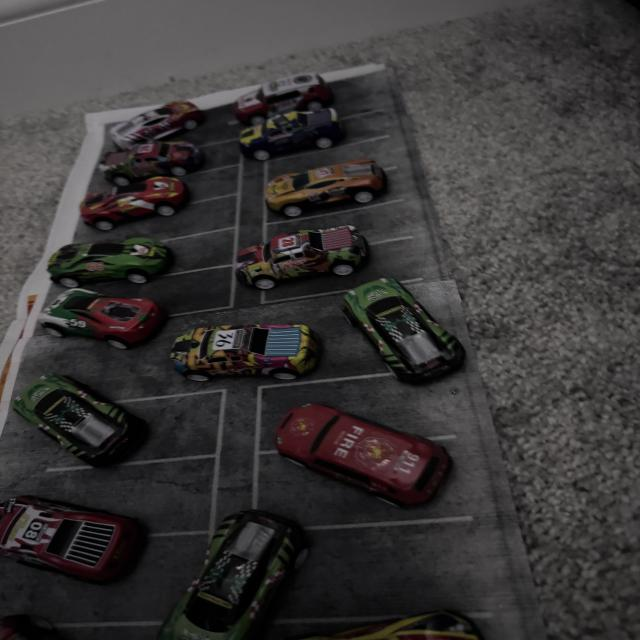Car: (332, 275, 536, 411), (274, 379, 448, 532), (144, 493, 310, 640), (22, 362, 174, 478), (3, 508, 138, 614), (195, 237, 393, 300), (156, 315, 324, 387), (57, 125, 245, 182), (24, 279, 171, 351), (9, 230, 170, 286), (35, 184, 212, 230), (78, 94, 204, 152), (259, 160, 382, 210), (220, 114, 362, 156), (214, 67, 332, 115)
